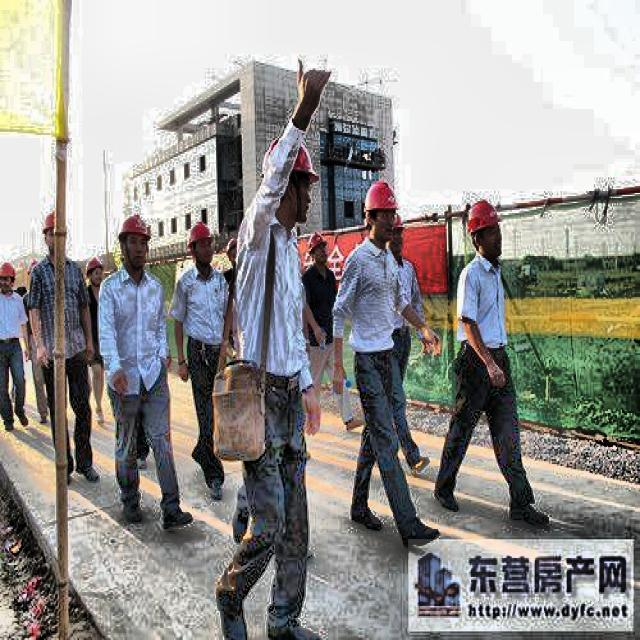helmet: (260, 130, 319, 225), (466, 194, 509, 272), (361, 176, 397, 242), (118, 213, 152, 273), (182, 218, 218, 266), (40, 210, 69, 261), (386, 208, 408, 260), (306, 230, 331, 268), (1, 261, 22, 295), (86, 254, 105, 287)
